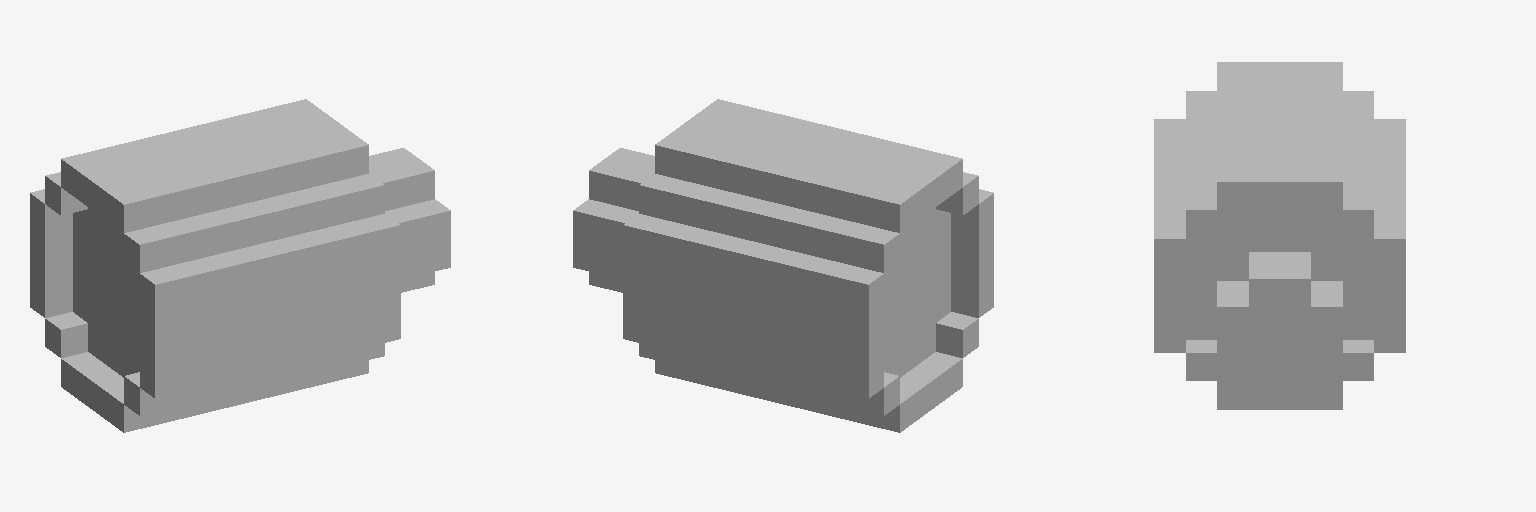
The model's file is pig meat raw.obj.
The picture shows the model from 3 angles: view 1: azimuth 30°, elevation 25°; view 2: azimuth 150°, elevation 25°; view 3: azimuth 270°, elevation 25°; orthographic projection.
Parts seen in each view (by area): view 1: object 1; view 2: object 1; view 3: object 1.
Boxes of the visible parts, <box> form: object 1: <box>30,99,450,432</box>; object 1: <box>573,99,993,432</box>; object 1: <box>1154,62,1405,409</box>.
Size of the model in its own units: 1.2 by 0.8 by 0.8.